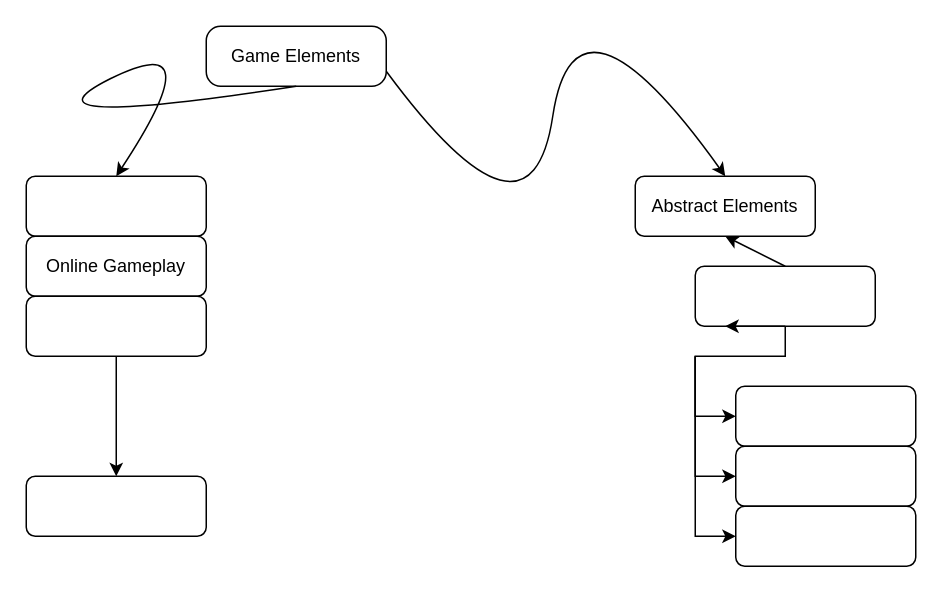
This 942x593 diagram has some shape labels left out. The box of each missing label's shape, as (x1, y1, x2, y2) in pixels:
Main Window: (25, 295, 206, 356)
Start Menu: (25, 175, 206, 236)
